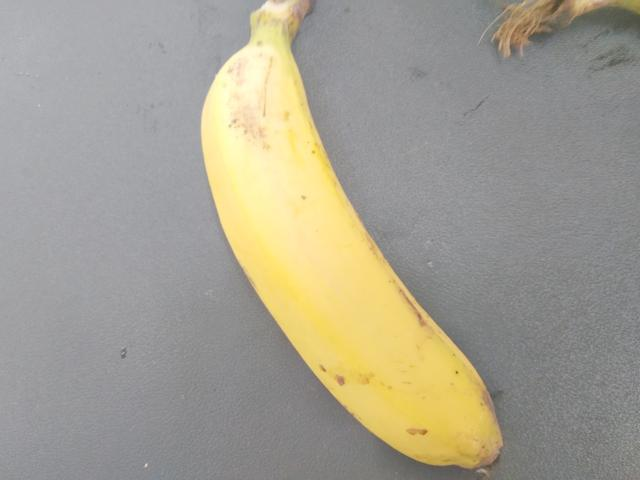ripe: (165, 56, 528, 479)
